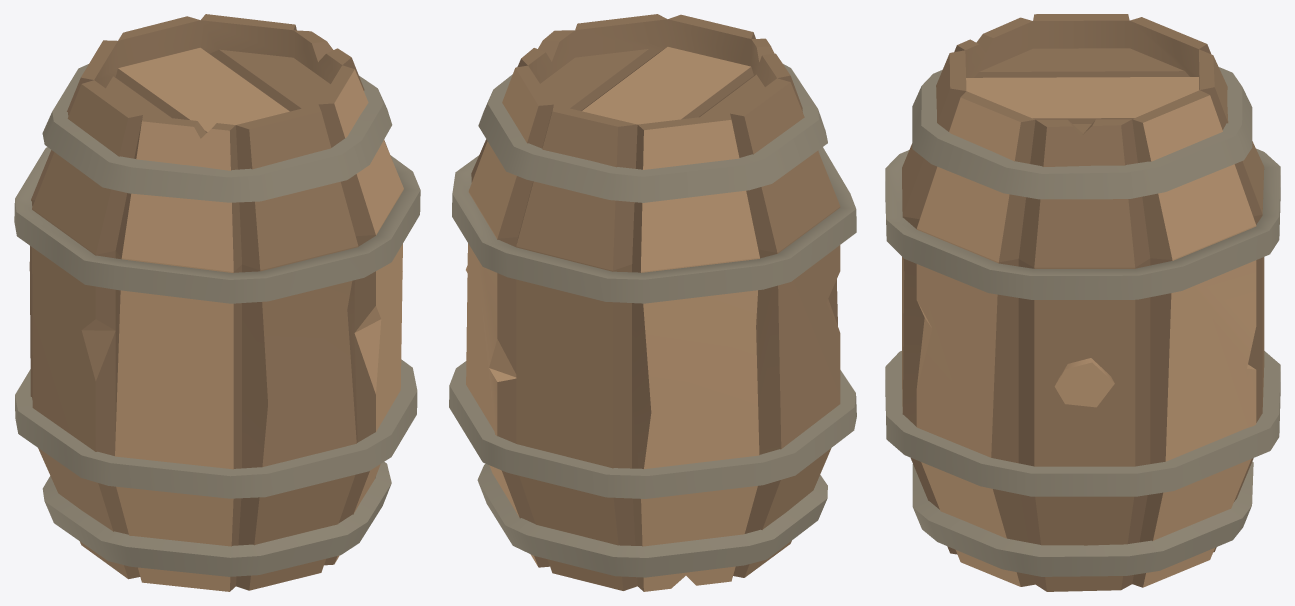
The model's file is Barrel_LOD_00.glb.
3 renders of one model, left to right at view 1: azimuth 30°, elevation 25°; view 2: azimuth 150°, elevation 25°; view 3: azimuth 270°, elevation 25°, orthographic.
Visible parts, largest first — view 1: Barrel_LOD_00; view 2: Barrel_LOD_00; view 3: Barrel_LOD_00.
Boxes of the visible parts, box(x1,y1,x2,y2) form: Barrel_LOD_00: box(14, 14, 420, 591); Barrel_LOD_00: box(449, 14, 856, 591); Barrel_LOD_00: box(885, 14, 1280, 591).
Bounding box in the file's own units: 0.9082 × 1.17 × 0.9023.
Materials: 1 (1 with a texture image).
